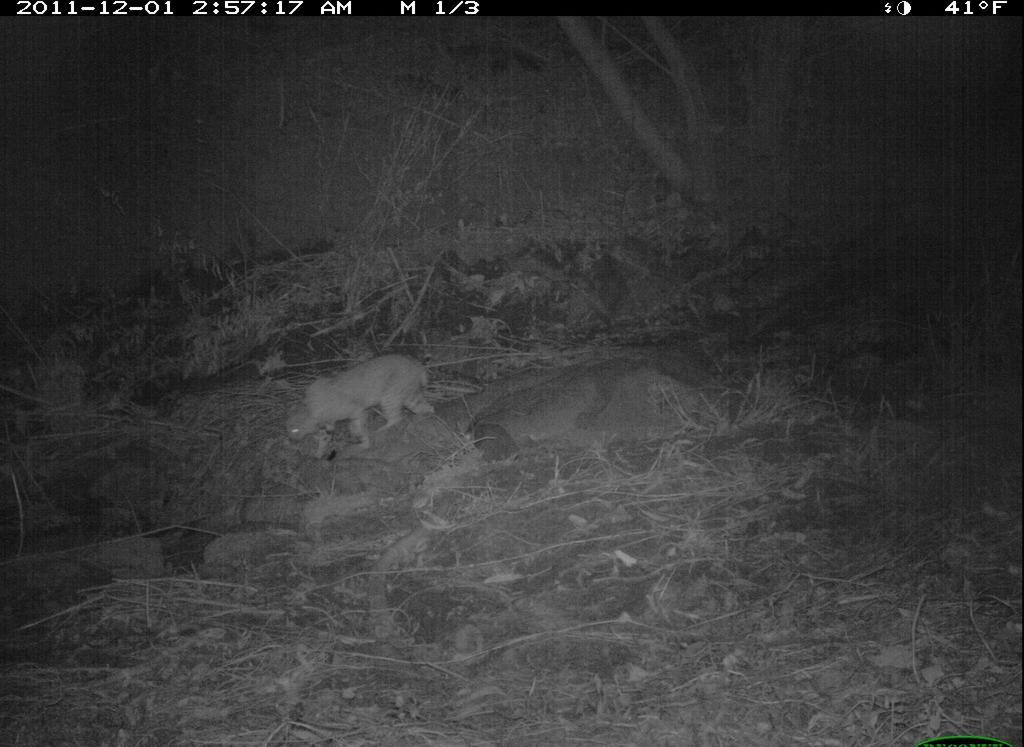bobcat: (263, 337, 446, 479)
